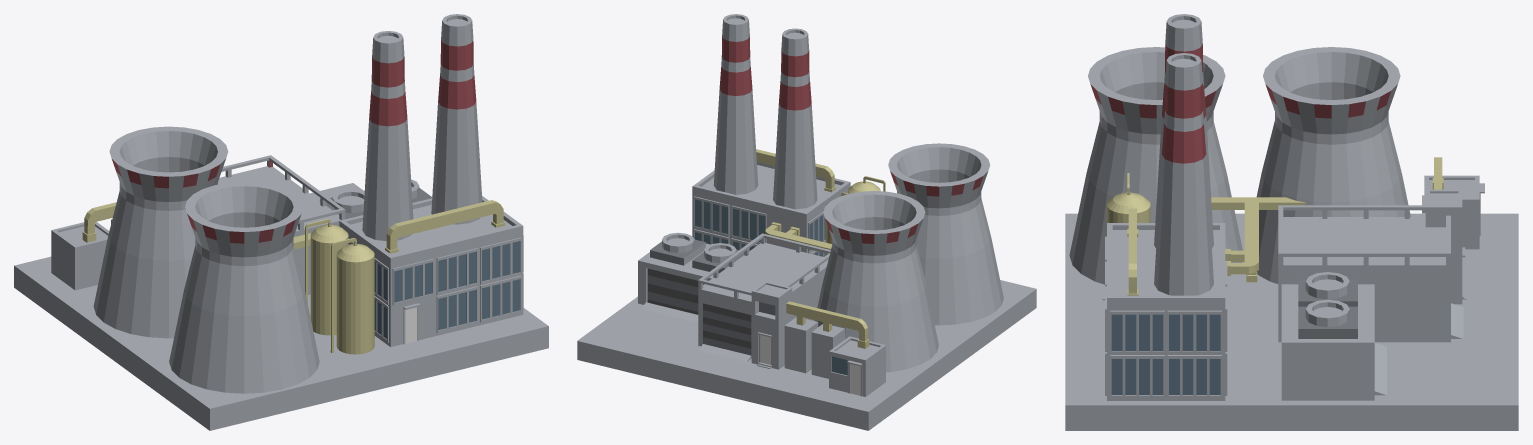
File: powerStation.glb
3 views of the same model, side by side, from view 1: azimuth 30°, elevation 25°; view 2: azimuth 150°, elevation 25°; view 3: azimuth 270°, elevation 25° (orthographic). The views are drawn at different scales.
Parts seen in each view (by area): view 1: Power Station; view 2: Power Station; view 3: Power Station.
Part boxes in pixels (<box>): Power Station: <box>14,14,548,430</box>; Power Station: <box>577,14,1036,430</box>; Power Station: <box>1065,14,1518,430</box>.
Bounding box in the file's own units: 2.94 × 2.49 × 2.94.
